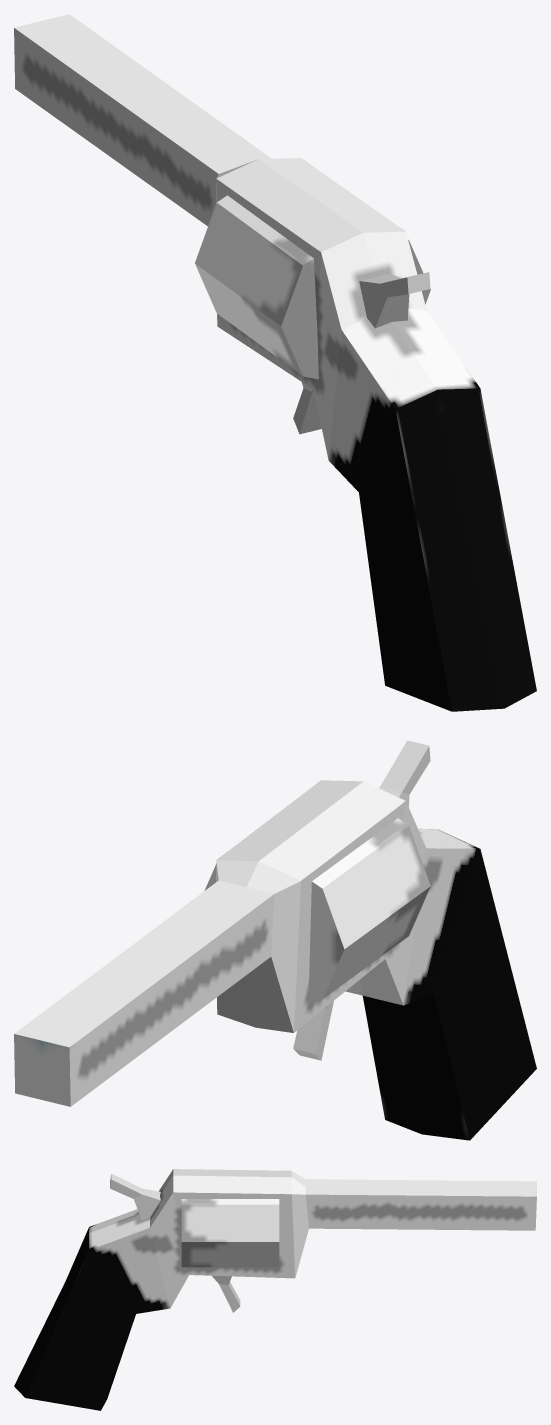
Rendered from gun.glb.
The picture shows the model from 3 angles, top to bottom: view 1: azimuth 30°, elevation 25°; view 2: azimuth 150°, elevation 25°; view 3: azimuth 270°, elevation 25°; orthographic projection. The views are drawn at different scales.
Parts seen in each view (by area): view 1: Cube, Cylinder, Cube.001, Cube.002; view 2: Cube, Cylinder, Cube.001, Cube.002; view 3: Cube, Cylinder, Cube.001, Cube.002.
Boxes of the visible parts, bbox=[...] form: Cube: bbox=[14, 14, 536, 711]; Cylinder: bbox=[195, 166, 430, 379]; Cube.001: bbox=[359, 272, 430, 328]; Cube.002: bbox=[293, 382, 321, 434]; Cube: bbox=[14, 780, 536, 1140]; Cylinder: bbox=[204, 818, 430, 1001]; Cube.001: bbox=[379, 740, 430, 806]; Cube.002: bbox=[293, 1001, 333, 1060]; Cube: bbox=[14, 1169, 536, 1410]; Cylinder: bbox=[181, 1177, 279, 1267]; Cube.001: bbox=[110, 1173, 160, 1219]; Cube.002: bbox=[212, 1275, 240, 1312].
Bounding box in the file's own units: 0.9048 × 2.29 × 4.84.
Materials: 1 (1 with a texture image).
